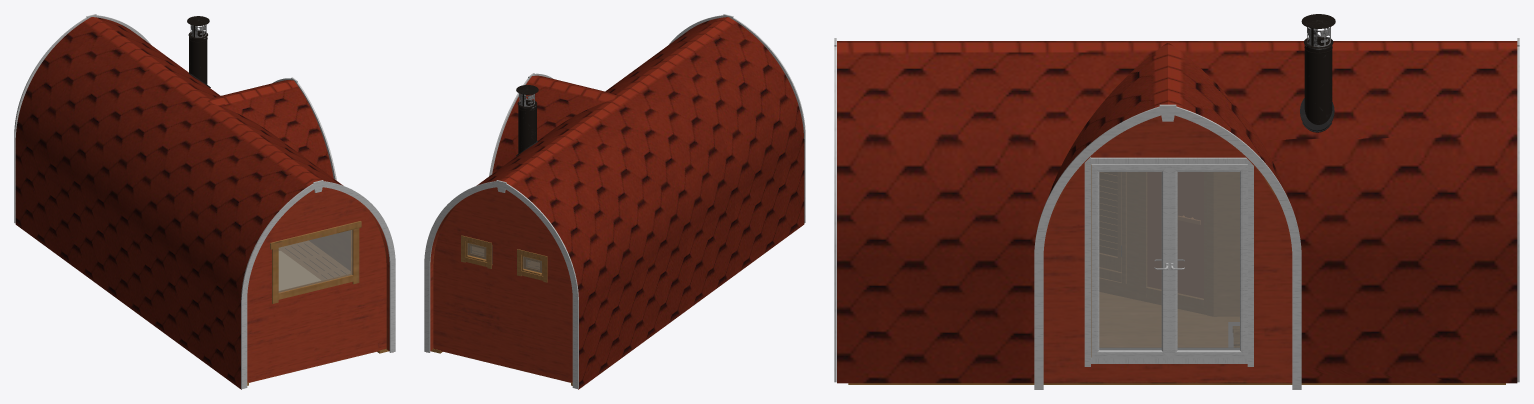
3 views of the same model, side by side, from view 1: azimuth 30°, elevation 25°; view 2: azimuth 150°, elevation 25°; view 3: azimuth 270°, elevation 25° (orthographic). The views are drawn at different scales.
Visible parts, largest first — view 1: banya_new_ready, Box 1; view 2: banya_new_ready, Box 2; view 3: banya_new_ready, Box.
Boxes of the visible parts, x1=… form: banya_new_ready: x1=14, y1=14, x2=395, y2=389; Box 1: x1=278, y1=230, x2=352, y2=292; banya_new_ready: x1=424, y1=14, x2=805, y2=389; Box 2: x1=467, y1=243, x2=541, y2=272; banya_new_ready: x1=834, y1=14, x2=1519, y2=389; Box: x1=1099, y1=172, x2=1239, y2=350.
Bounding box in the file's own units: 2 × 2.62 × 4.8.
6 materials, 3 textured.
